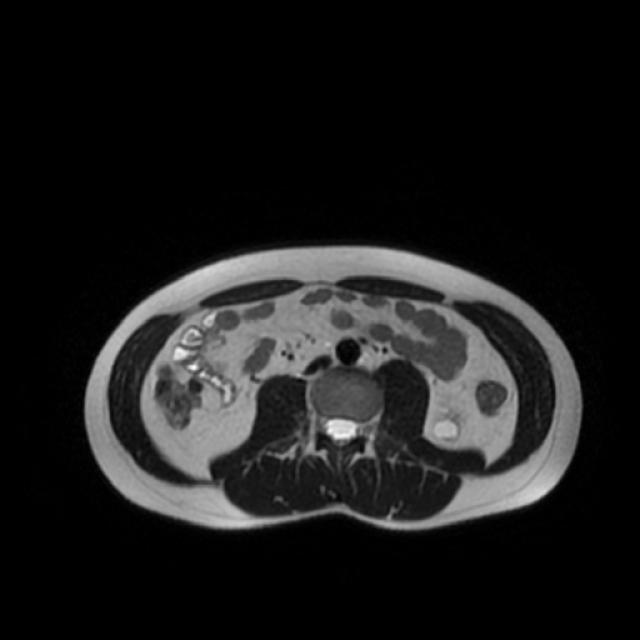sol: (436, 399, 462, 445)
